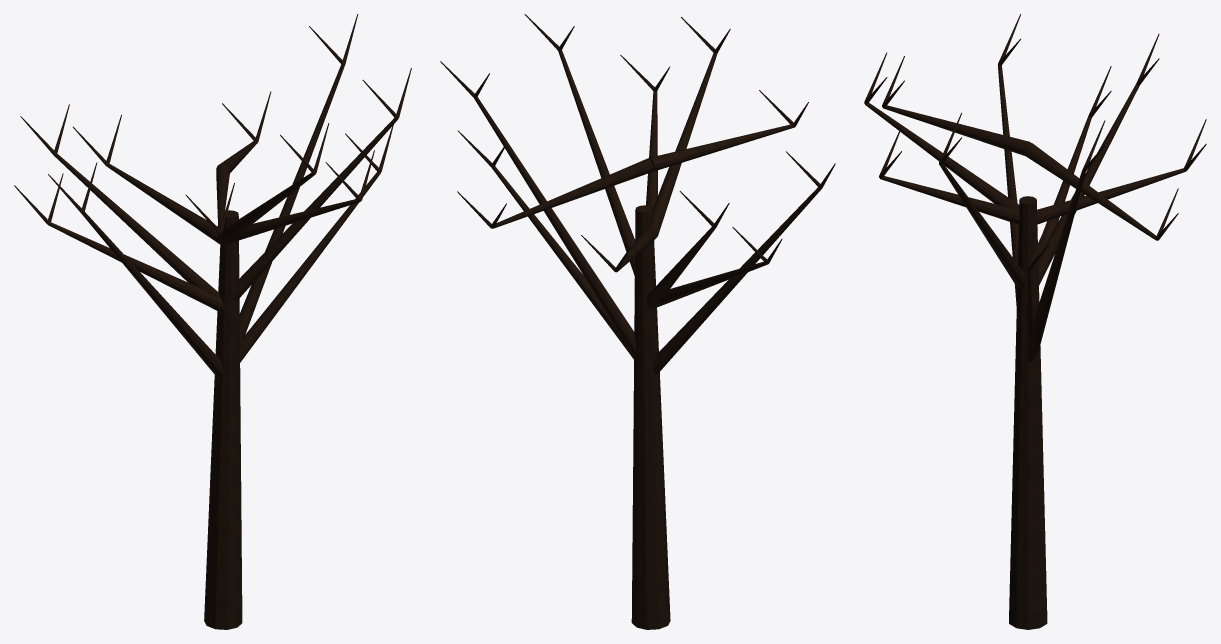
The model's file is PROP-64D99EA09800_lod1.glb.
The picture shows the model from 3 angles, left to right: view 1: azimuth 30°, elevation 25°; view 2: azimuth 150°, elevation 25°; view 3: azimuth 270°, elevation 25°; orthographic projection. The views are drawn at different scales.
Parts seen in each view (by area): view 1: branch.009, trunk.021, bare_twigs.003; view 2: branch.009, trunk.021, bare_twigs.003; view 3: branch.009, trunk.021, bare_twigs.003.
Boxes of the visible parts, x1,y1,x2,y2 form: branch.009: [48, 64, 398, 377]; trunk.021: [204, 210, 242, 629]; bare_twigs.003: [14, 14, 411, 233]; branch.009: [474, 50, 821, 374]; trunk.021: [631, 205, 670, 629]; bare_twigs.003: [440, 14, 835, 272]; branch.009: [865, 65, 1185, 361]; trunk.021: [1009, 196, 1047, 629]; bare_twigs.003: [864, 14, 1206, 271].
Size of the model in its own units: 5.16 by 7.4 by 4.07.
Materials: 1 (1 with a texture image).
